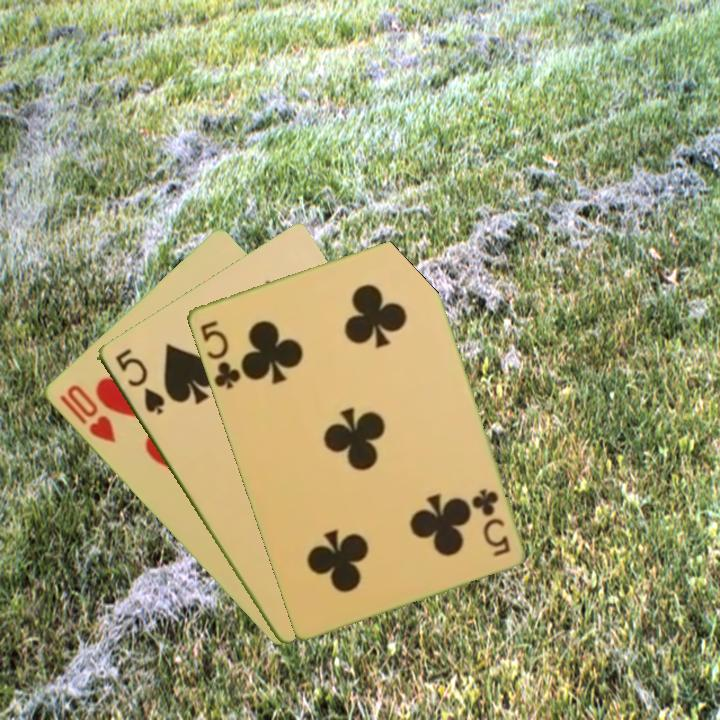10h: (55, 380, 118, 446)
5c: (196, 316, 243, 392), (468, 484, 513, 559)
5s: (110, 344, 168, 418)
